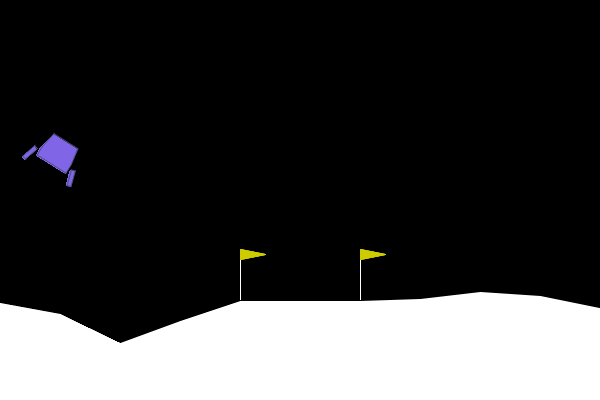lander: (20, 124, 92, 190)
